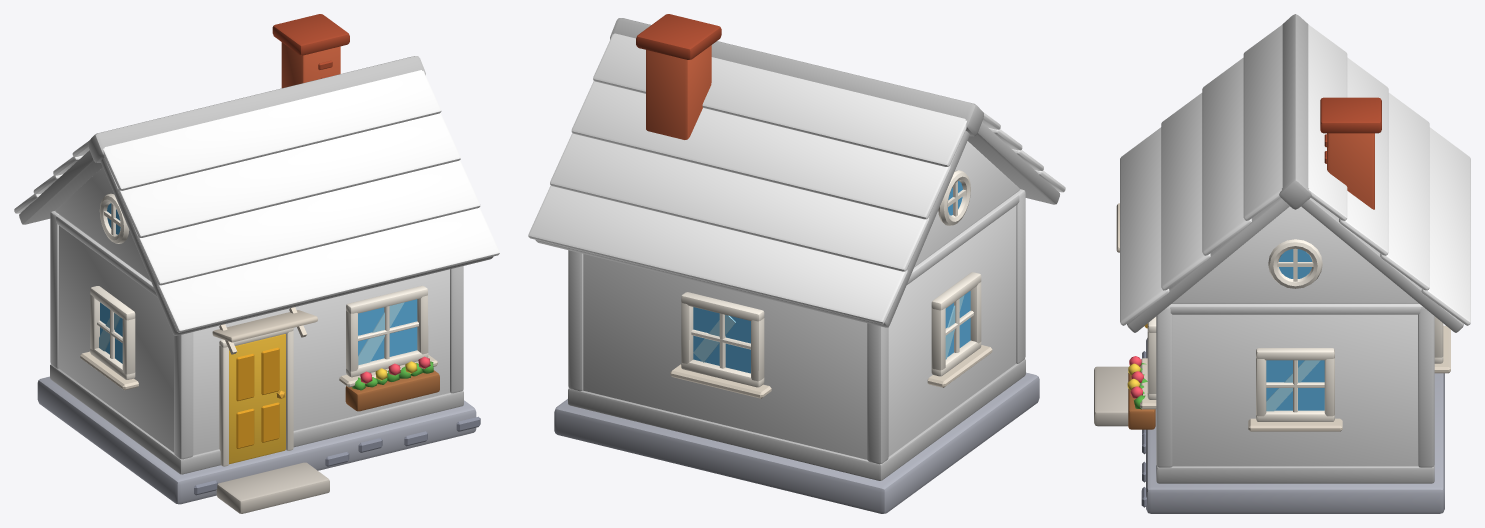
File: house_painted.glb
3 renders of one model, left to right at view 1: azimuth 30°, elevation 25°; view 2: azimuth 150°, elevation 25°; view 3: azimuth 270°, elevation 25°, orthographic. The views are drawn at different scales.
Parts seen in each view (by area): view 1: painted_roof, painted_trim, painted_walls, painted_roof_trim; view 2: painted_roof, painted_walls, painted_trim, painted_roof_trim; view 3: painted_roof, painted_walls, painted_trim, painted_roof_trim.
Boxes of the visible parts, x1=… form: painted_roof: x1=14, y1=56, x2=499, y2=335; painted_trim: x1=37, y1=193, x2=480, y2=513; painted_walls: x1=50, y1=167, x2=463, y2=474; painted_roof_trim: x1=272, y1=14, x2=349, y2=88; painted_roof: x1=528, y1=18, x2=1065, y2=327; painted_walls: x1=568, y1=141, x2=1025, y2=480; painted_trim: x1=554, y1=170, x2=1039, y2=513; painted_roof_trim: x1=636, y1=14, x2=721, y2=139; painted_roof: x1=1120, y1=14, x2=1470, y2=332; painted_walls: x1=1156, y1=206, x2=1434, y2=483; painted_trim: x1=1094, y1=203, x2=1450, y2=513; painted_roof_trim: x1=1320, y1=97, x2=1381, y2=209.
Size of the model in its own units: 4.66 by 4.79 by 4.41.
1 material, 1 textured.
